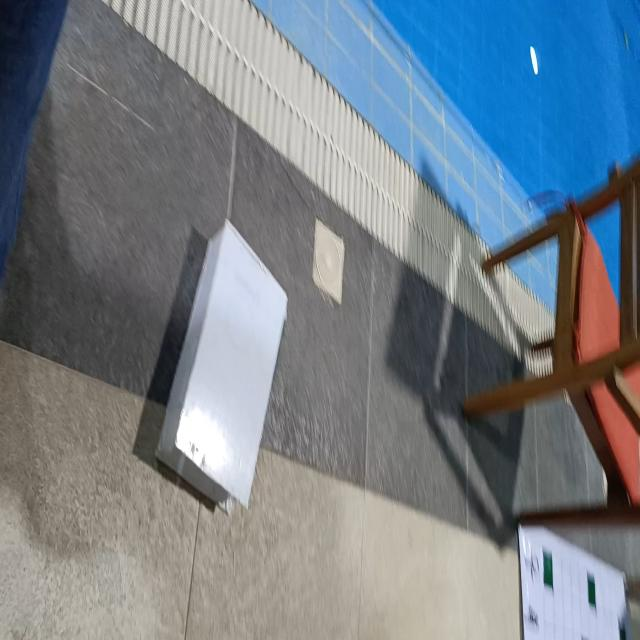Cuboid: (154, 216, 288, 512)
